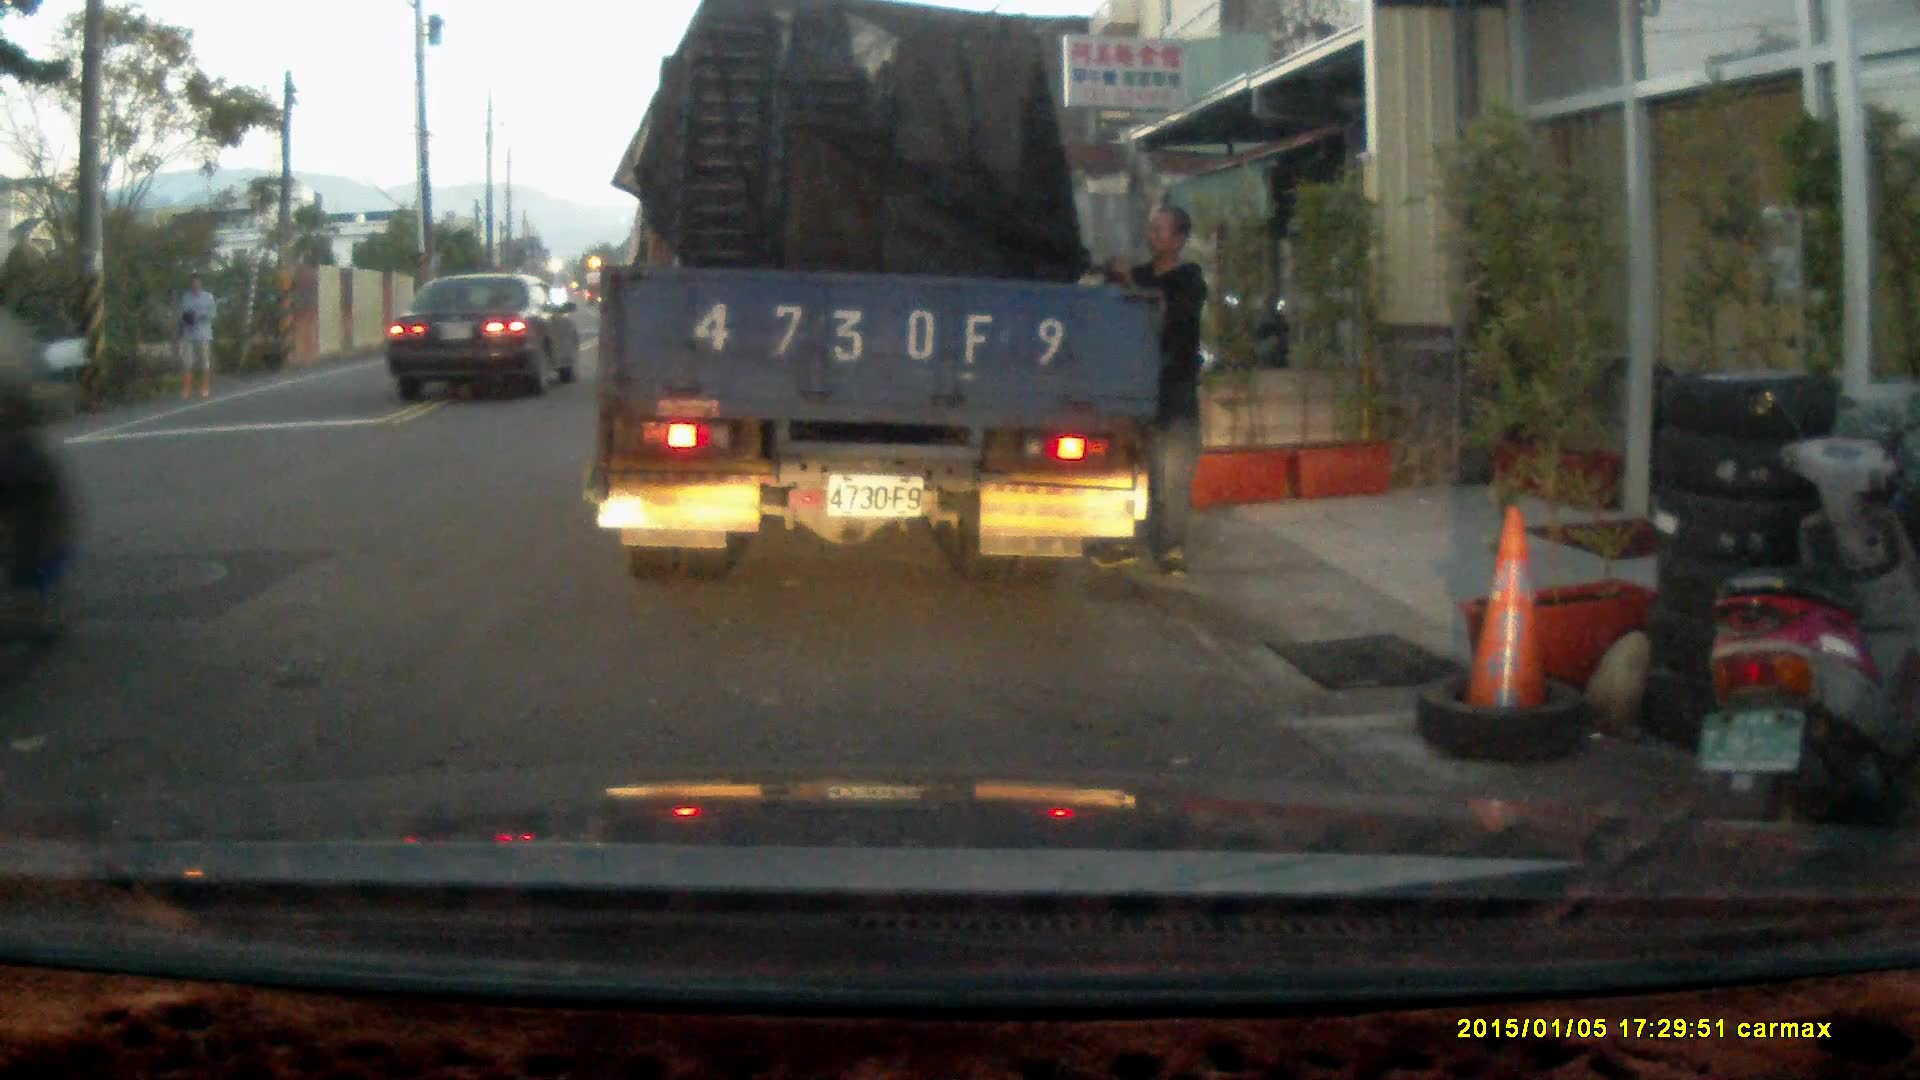pedestrian: (1084, 206, 1210, 580), (173, 273, 219, 405)
vehicle: (598, 23, 1164, 572), (392, 270, 583, 406)
